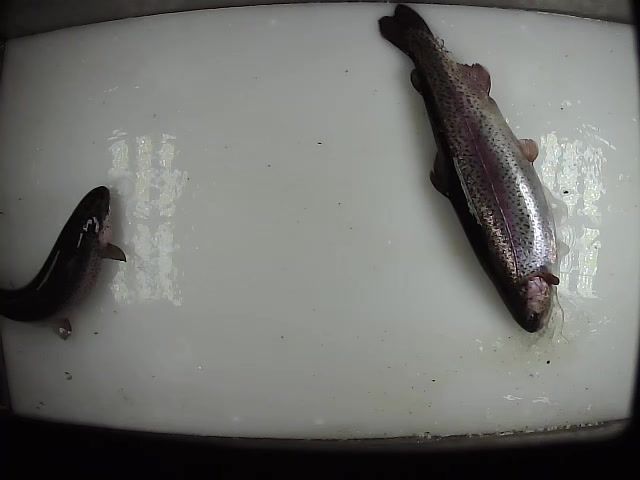fish: (376, 4, 561, 334)
